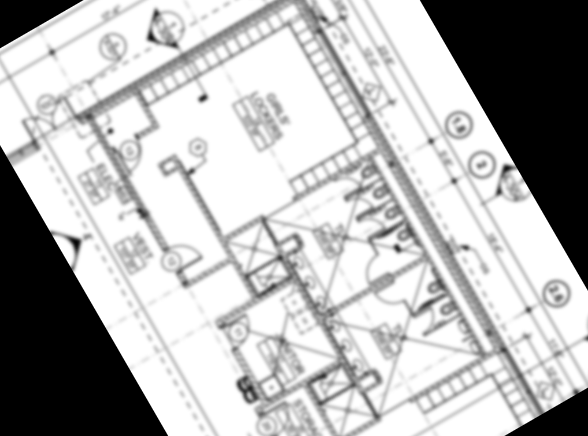door: (86, 0, 303, 124), (250, 356, 347, 420), (165, 232, 208, 276), (260, 397, 301, 436), (356, 251, 393, 288), (372, 280, 408, 315), (410, 304, 443, 337), (333, 167, 367, 199), (344, 190, 377, 221), (357, 209, 388, 241)
double door: (21, 94, 79, 142)
wall: (358, 115, 505, 358), (367, 154, 490, 358), (271, 239, 367, 397), (76, 111, 172, 260), (168, 152, 262, 303), (319, 252, 431, 324), (402, 346, 501, 410), (288, 144, 385, 209), (208, 273, 297, 332), (299, 382, 381, 436), (226, 343, 275, 413), (212, 310, 264, 358), (179, 255, 234, 292), (130, 84, 165, 134), (221, 212, 270, 247), (287, 0, 322, 39), (337, 410, 387, 436), (134, 120, 164, 142)
